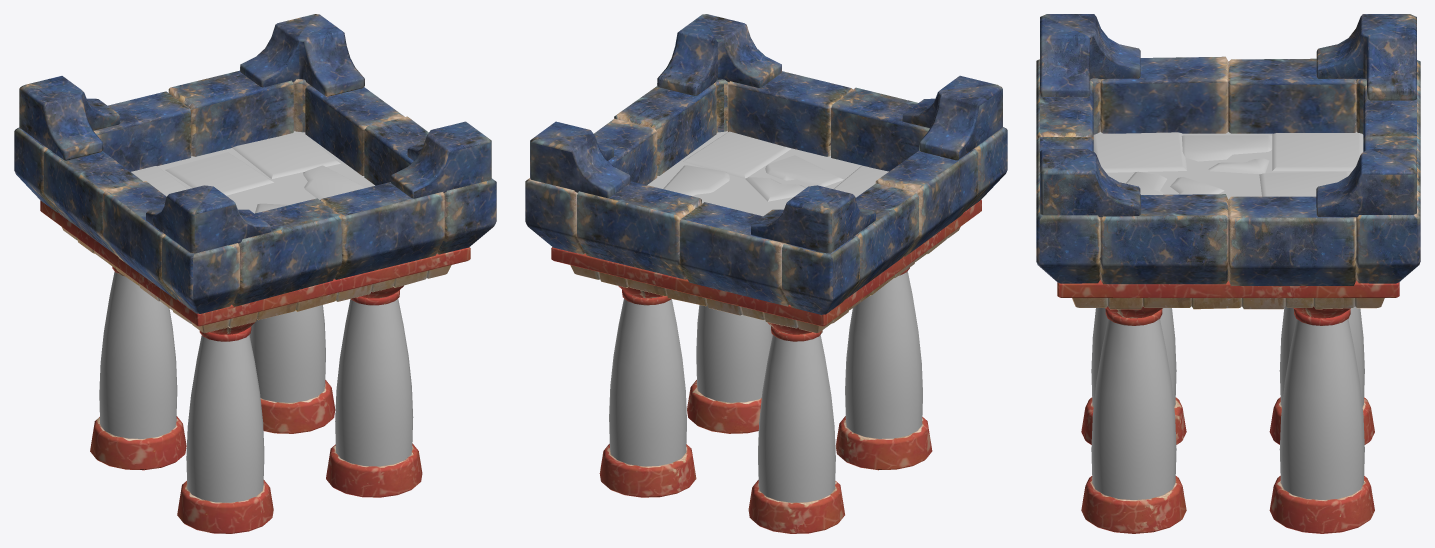
3 renders of one model, left to right at view 1: azimuth 30°, elevation 25°; view 2: azimuth 150°, elevation 25°; view 3: azimuth 270°, elevation 25°, orthographic. The views are drawn at different scales.
Visible parts, largest first — view 1: SM_Menaphite_Ruins_Tower_03_LOD0; view 2: SM_Menaphite_Ruins_Tower_03_LOD0; view 3: SM_Menaphite_Ruins_Tower_03_LOD0.
Boxes of the visible parts, bbox=[...] form: SM_Menaphite_Ruins_Tower_03_LOD0: bbox=[14, 14, 496, 533]; SM_Menaphite_Ruins_Tower_03_LOD0: bbox=[525, 14, 1007, 533]; SM_Menaphite_Ruins_Tower_03_LOD0: bbox=[1036, 14, 1420, 533].
Size of the model in its own units: 6 by 6.56 by 6.01.
